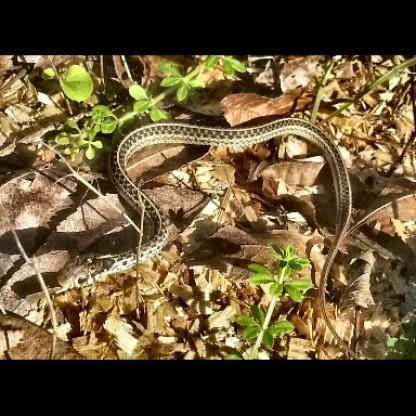Snake: (39, 220, 174, 304)
